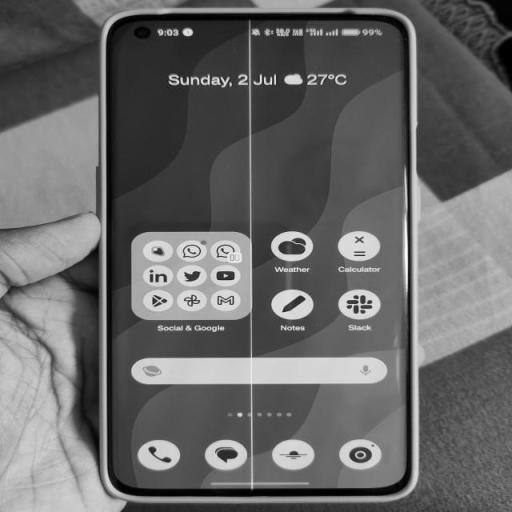phone: (93, 17, 412, 508)
